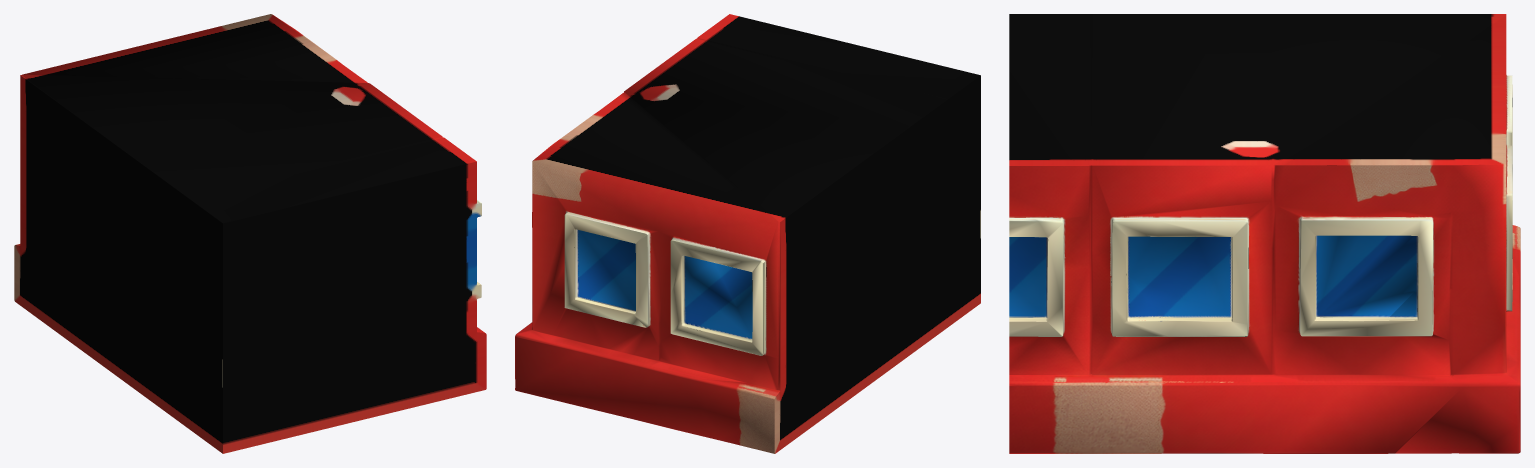
The model's file is 4-ground-floor-back-right.fbx.
3 renders of one model, left to right at view 1: azimuth 30°, elevation 25°; view 2: azimuth 150°, elevation 25°; view 3: azimuth 270°, elevation 25°, orthographic. The views are drawn at different scales.
Visible parts, largest first — view 1: ground-floor-back-right; view 2: ground-floor-back-right; view 3: ground-floor-back-right.
Boxes of the visible parts, box(x1,y1,x2,y2) form: ground-floor-back-right: box(14, 14, 486, 453); ground-floor-back-right: box(515, 14, 980, 453); ground-floor-back-right: box(1009, 14, 1520, 453).
Size of the model in its own units: 4289 by 3585 by 5880.
Materials: 1 (1 with a texture image).
